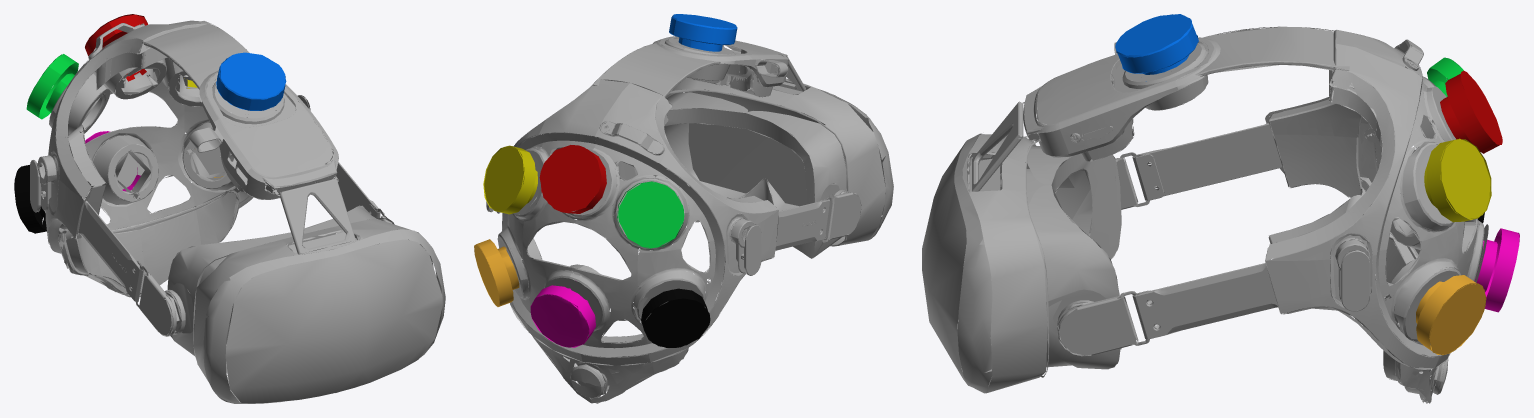
Rendered from headsetModel.fbx.
The picture shows the model from 3 angles, left to right: view 1: azimuth 30°, elevation 25°; view 2: azimuth 150°, elevation 25°; view 3: azimuth 270°, elevation 25°; orthographic projection. The views are drawn at different scales.
Parts seen in each view (by area): view 1: Headset2, Node1, Node4, Node7, Node3; view 2: Headset2, Node3, Node4, Node7, Node6, Node2, Node5, Node1; view 3: Headset2, Node2, Node5, Node1, Node3, Node6, Node4.
Part boxes in pixels (x1,y1,x2,y2): Headset2: (30,20,445,403); Node1: (216,52,286,110); Node4: (26,54,78,119); Node7: (14,163,46,233); Node3: (85,14,147,81); Headset2: (486,36,893,403); Node3: (539,145,606,213); Node4: (617,181,684,248); Node7: (641,288,710,347); Node6: (530,285,595,347); Node2: (483,145,537,214); Node5: (474,239,519,306); Node1: (669,14,737,51); Headset2: (922,26,1488,403); Node2: (1424,138,1491,222); Node5: (1416,275,1486,355); Node1: (1115,14,1198,81); Node3: (1440,70,1502,153); Node6: (1474,228,1519,312); Node4: (1427,57,1463,96).
Bounding box in the file's own units: 22.01 × 24.34 × 34.79.
